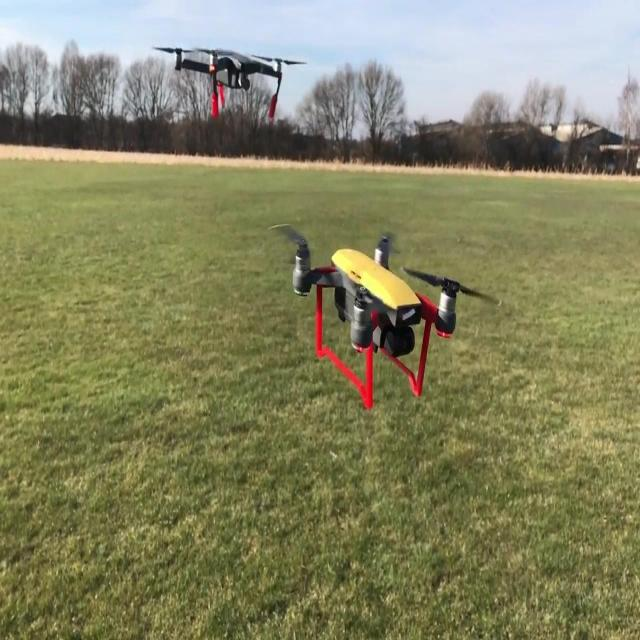UAV: (268, 223, 501, 410), (152, 48, 308, 119)
